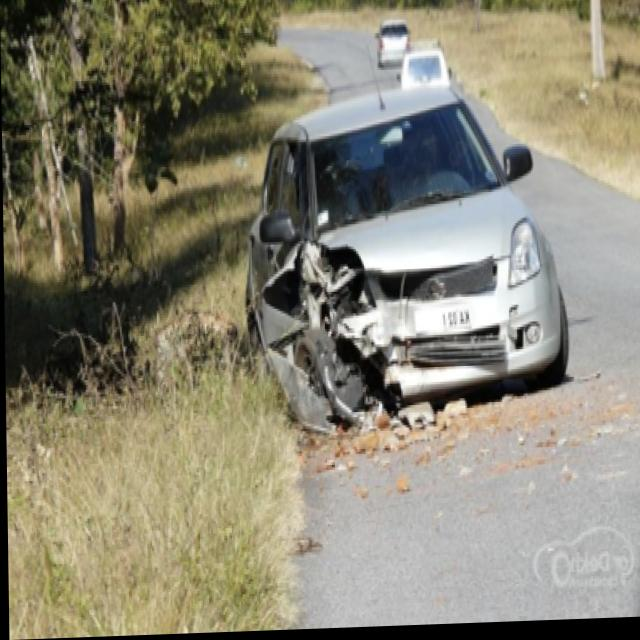licence: (437, 300, 477, 331)
